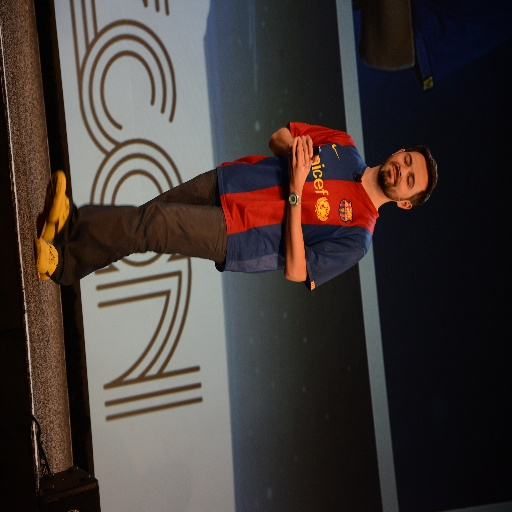hand: (286, 133, 314, 183)
